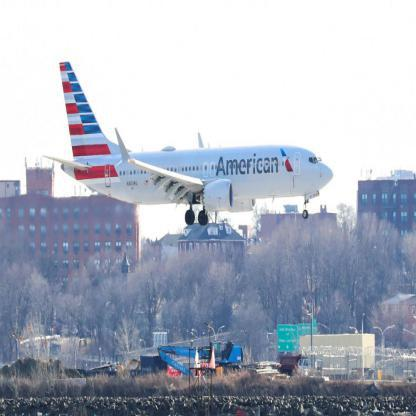CIV_Plane: (39, 57, 334, 234)
